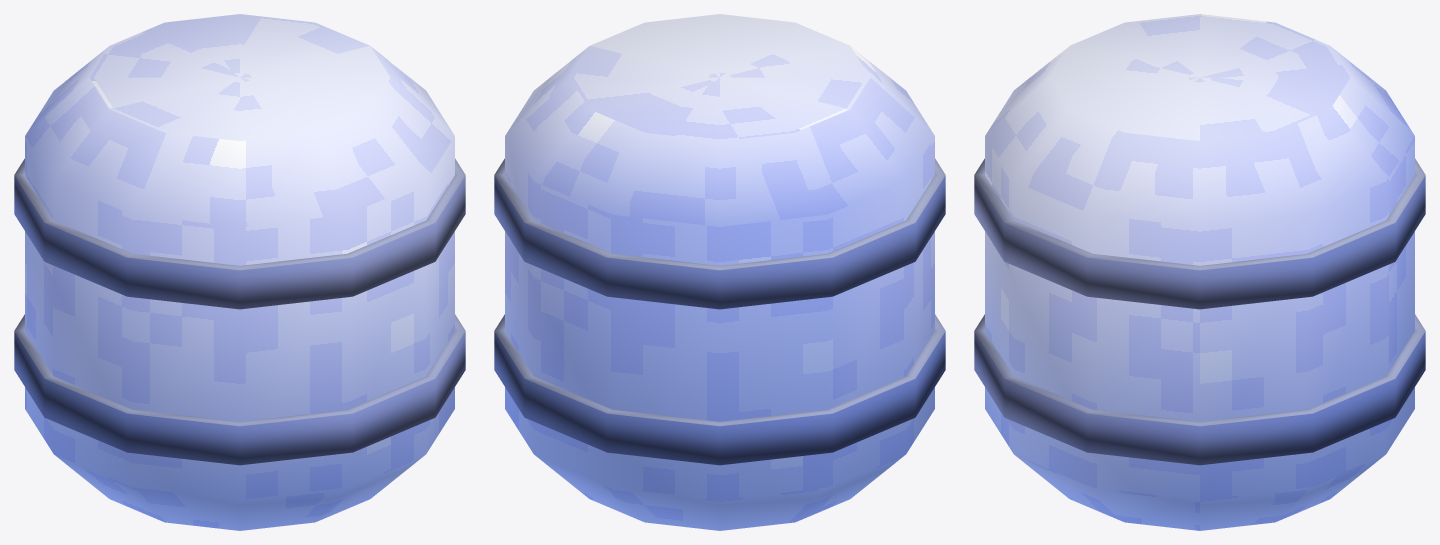
File: furn.container.glb
The picture shows the model from 3 angles, left to right: view 1: azimuth 30°, elevation 25°; view 2: azimuth 150°, elevation 25°; view 3: azimuth 270°, elevation 25°; orthographic projection.
Parts seen in each view (by area): view 1: kit_container, kit_bands; view 2: kit_container, kit_bands; view 3: kit_container, kit_bands.
Part boxes in pixels (x1,y1,x2,y2): kit_container: [25, 14, 454, 530]; kit_bands: [14, 158, 465, 465]; kit_container: [505, 14, 934, 530]; kit_bands: [494, 158, 945, 465]; kit_container: [985, 14, 1414, 530]; kit_bands: [974, 158, 1425, 465].
Size of the model in its own units: 0.63 by 0.6 by 0.63.
Materials: 2 (1 with a texture image).
